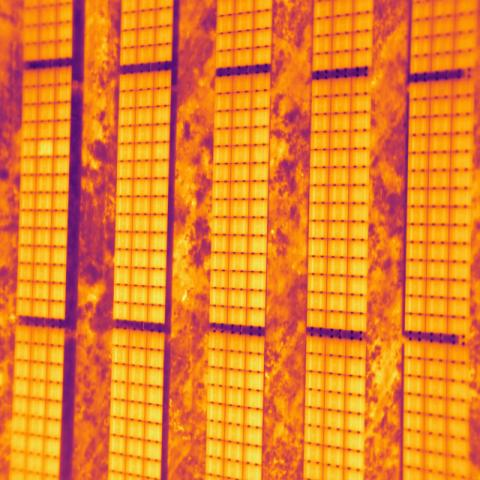fault: (36, 139, 54, 157)
